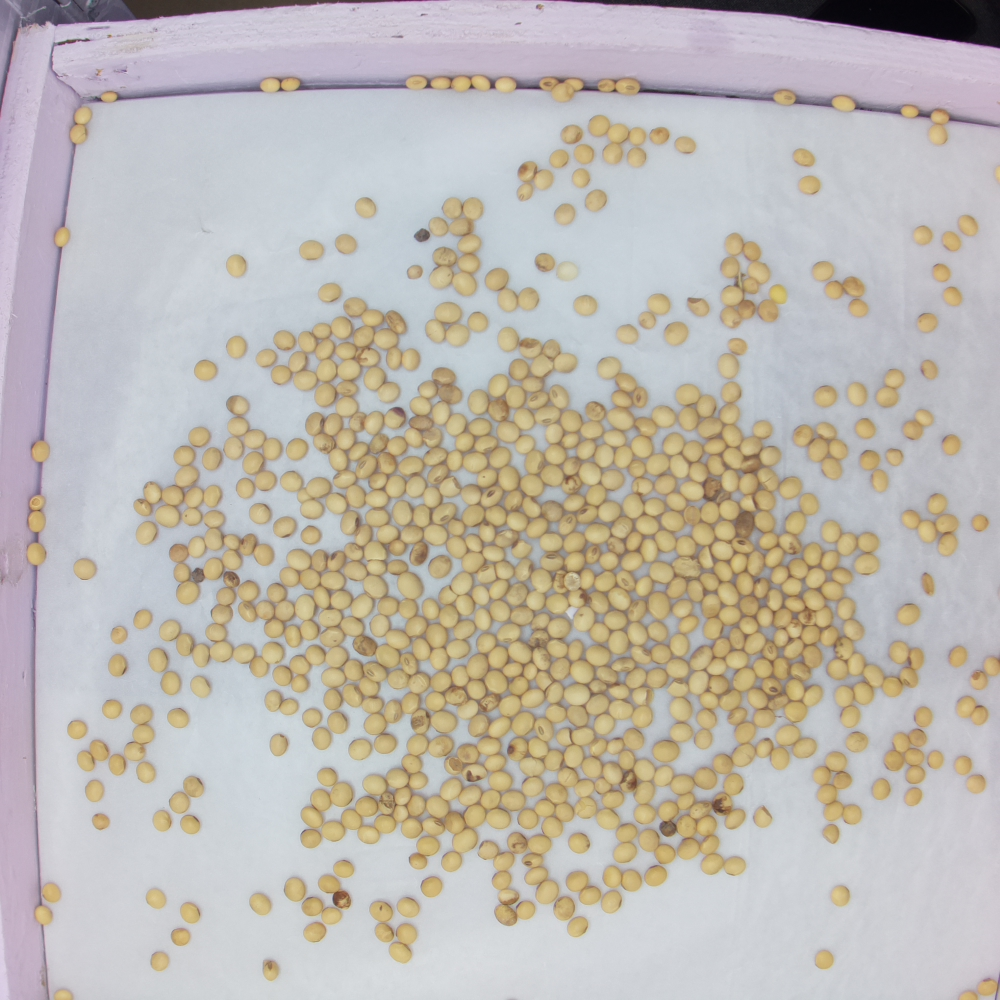soya: (646, 592, 670, 622), (364, 575, 389, 602), (607, 408, 635, 432), (652, 740, 680, 764), (732, 741, 753, 771), (399, 573, 423, 599), (564, 684, 591, 707), (668, 698, 695, 721), (497, 326, 519, 354), (434, 303, 464, 323), (520, 473, 544, 498), (428, 737, 454, 760), (691, 645, 714, 671), (452, 829, 479, 851), (585, 644, 612, 666), (525, 834, 552, 856), (375, 644, 399, 668), (433, 503, 458, 526), (664, 322, 689, 345), (432, 711, 458, 733), (553, 352, 579, 374), (717, 582, 739, 608), (225, 336, 248, 360), (341, 684, 364, 708), (439, 778, 462, 802), (532, 356, 555, 380), (260, 643, 284, 666), (512, 712, 536, 735), (675, 385, 699, 408), (629, 436, 653, 459), (692, 523, 714, 548), (646, 454, 671, 476), (298, 617, 319, 643), (770, 746, 791, 772), (454, 272, 477, 295), (585, 189, 608, 212), (644, 865, 667, 888), (225, 254, 247, 278), (313, 384, 335, 408), (286, 439, 310, 461), (356, 456, 378, 480), (445, 640, 469, 662), (485, 269, 509, 291), (273, 516, 297, 538), (326, 646, 348, 670), (329, 784, 353, 806), (486, 810, 510, 832), (327, 712, 351, 734), (554, 203, 576, 227), (608, 588, 630, 612), (562, 532, 586, 554), (586, 114, 608, 138), (365, 367, 386, 392), (508, 357, 529, 382), (467, 654, 488, 679), (596, 502, 621, 523), (579, 463, 600, 488), (365, 410, 385, 436), (424, 525, 450, 545), (384, 700, 403, 727), (335, 234, 358, 256), (318, 281, 341, 303), (444, 414, 466, 437), (497, 466, 519, 489), (565, 706, 588, 728), (694, 768, 717, 790), (596, 808, 619, 830), (521, 776, 543, 799), (331, 316, 352, 340), (472, 435, 500, 453), (488, 446, 512, 467), (518, 287, 539, 311), (369, 900, 393, 921), (429, 266, 453, 287), (488, 718, 512, 739), (585, 524, 609, 545), (573, 295, 597, 316), (469, 389, 489, 414), (295, 595, 315, 620), (395, 897, 420, 917), (320, 627, 345, 647), (596, 357, 621, 377), (668, 722, 693, 742), (533, 408, 560, 426), (702, 592, 720, 619), (401, 753, 423, 775), (253, 544, 275, 566), (592, 712, 614, 734), (666, 577, 688, 599), (586, 486, 608, 508), (485, 671, 508, 692), (370, 615, 391, 638), (255, 600, 276, 623), (300, 807, 323, 828), (609, 699, 632, 720), (650, 563, 673, 584), (624, 496, 645, 519), (696, 708, 717, 731), (723, 773, 744, 796), (639, 830, 660, 853), (780, 476, 801, 499), (814, 385, 837, 406), (734, 668, 755, 691), (794, 737, 817, 758), (820, 802, 843, 823), (300, 240, 324, 260), (337, 361, 361, 381), (452, 572, 472, 596), (386, 629, 410, 649), (498, 288, 518, 312), (344, 562, 368, 582), (669, 774, 693, 794), (536, 880, 556, 904), (577, 886, 601, 906), (700, 854, 724, 874), (823, 751, 847, 771), (328, 448, 347, 473), (399, 457, 424, 476), (393, 501, 412, 526), (482, 546, 507, 565), (405, 676, 430, 695), (320, 572, 345, 591), (612, 844, 637, 863), (602, 865, 621, 890), (519, 758, 545, 776), (424, 320, 445, 342), (456, 595, 477, 617), (463, 505, 484, 527), (460, 484, 481, 506), (342, 809, 363, 831), (543, 445, 565, 466), (655, 530, 676, 552), (570, 660, 592, 681), (569, 832, 590, 854), (621, 871, 642, 893), (678, 838, 699, 860), (406, 616, 429, 636), (243, 452, 263, 475), (249, 504, 272, 524), (574, 608, 594, 631), (530, 648, 550, 671), (779, 534, 799, 557), (754, 512, 777, 532), (401, 348, 420, 372), (333, 472, 357, 491), (363, 775, 387, 794), (489, 771, 513, 790), (608, 630, 627, 654), (647, 294, 671, 313), (665, 432, 684, 456), (720, 690, 744, 709), (690, 671, 709, 695), (583, 756, 602, 780), (822, 521, 841, 545), (496, 625, 521, 643), (366, 509, 391, 527), (318, 610, 343, 628), (552, 656, 570, 681), (810, 438, 828, 463), (414, 838, 442, 854), (300, 500, 321, 521), (487, 647, 508, 668), (238, 580, 259, 601), (365, 714, 386, 735), (561, 410, 582, 431), (652, 766, 673, 787), (712, 754, 733, 775), (805, 570, 826, 591), (884, 369, 905, 390), (273, 330, 295, 350), (280, 472, 302, 492), (355, 198, 377, 218), (488, 374, 508, 396), (322, 669, 344, 689), (421, 877, 443, 897), (426, 797, 448, 817), (330, 590, 352, 610), (401, 693, 421, 715), (616, 325, 638, 345), (603, 144, 623, 166), (726, 706, 748, 726), (634, 782, 654, 804), (565, 871, 587, 891), (696, 816, 716, 838), (740, 437, 762, 457), (317, 359, 336, 382), (287, 550, 310, 569), (366, 490, 389, 509), (464, 197, 483, 220), (238, 601, 257, 624), (312, 727, 331, 750), (627, 622, 646, 645), (671, 634, 690, 657), (671, 454, 690, 477), (681, 481, 704, 500), (666, 660, 689, 679), (635, 759, 654, 782), (601, 790, 624, 809), (524, 867, 547, 886), (656, 844, 675, 867), (793, 424, 812, 447), (848, 383, 867, 406), (376, 384, 400, 402), (354, 524, 372, 548), (520, 690, 544, 708), (580, 422, 604, 440), (679, 406, 697, 430), (633, 806, 657, 824), (544, 783, 568, 801), (804, 543, 822, 567), (469, 419, 494, 436), (538, 532, 563, 549), (308, 478, 329, 498), (491, 602, 511, 623), (300, 524, 321, 544), (461, 786, 482, 806), (410, 640, 430, 661), (374, 816, 395, 836), (407, 735, 427, 756), (425, 692, 445, 713), (573, 144, 594, 164), (712, 540, 732, 561), (704, 619, 724, 640), (712, 637, 732, 658), (822, 458, 842, 479), (786, 513, 806, 534), (878, 387, 898, 408), (409, 397, 431, 416), (421, 598, 440, 620), (342, 542, 364, 561), (541, 467, 563, 486), (615, 824, 637, 843), (553, 803, 575, 822), (573, 780, 595, 799), (347, 485, 365, 508), (433, 401, 451, 424), (457, 235, 480, 253), (440, 605, 458, 628), (240, 533, 258, 556), (534, 719, 552, 742), (526, 519, 549, 537), (521, 495, 539, 518), (719, 606, 742, 624), (721, 404, 739, 427), (324, 413, 341, 437), (342, 512, 359, 536), (341, 618, 365, 635), (596, 444, 613, 468), (614, 445, 631, 469), (679, 816, 696, 840), (838, 597, 855, 621), (304, 645, 324, 665), (322, 690, 342, 710), (468, 312, 488, 332), (272, 665, 292, 685), (345, 297, 364, 318), (476, 633, 497, 652), (334, 860, 355, 879), (500, 696, 521, 715), (564, 552, 585, 571), (678, 616, 699, 635), (770, 563, 789, 584), (723, 426, 742, 447), (762, 445, 781, 466), (374, 329, 396, 347), (413, 505, 431, 527), (302, 708, 324, 726), (674, 136, 696, 154), (564, 746, 582, 768), (844, 803, 862, 825), (377, 598, 400, 615), (586, 695, 609, 712), (603, 612, 626, 629), (541, 552, 564, 569), (605, 124, 628, 141), (789, 558, 806, 581), (264, 437, 280, 461), (316, 340, 336, 359), (353, 327, 373, 346), (227, 417, 247, 436), (455, 432, 474, 452), (494, 561, 514, 580), (389, 436, 408, 456), (401, 820, 421, 839), (263, 619, 282, 639), (480, 789, 500, 808), (720, 500, 739, 520), (830, 439, 849, 459), (861, 450, 880, 470), (773, 608, 792, 628), (817, 785, 836, 805), (589, 624, 610, 642), (695, 729, 713, 750), (618, 571, 636, 592), (801, 494, 819, 515), (767, 590, 785, 611), (777, 727, 798, 745), (299, 332, 316, 354), (431, 648, 448, 670), (400, 653, 417, 675), (536, 170, 553, 192), (603, 430, 626, 446), (518, 855, 546, 868), (290, 675, 309, 694), (648, 622, 667, 641), (628, 127, 647, 146), (856, 418, 875, 437), (748, 690, 767, 709), (288, 353, 308, 371), (417, 381, 437, 399), (256, 471, 276, 489), (290, 656, 310, 674), (504, 792, 524, 810), (548, 640, 568, 658), (758, 532, 778, 550), (294, 371, 315, 388), (478, 565, 499, 582), (551, 386, 568, 407), (357, 827, 378, 844), (407, 476, 424, 497), (604, 763, 621, 784), (816, 423, 837, 440), (839, 533, 855, 555), (732, 538, 754, 554), (642, 539, 656, 564), (872, 469, 887, 492), (327, 494, 345, 513), (337, 430, 356, 448), (701, 835, 719, 854), (715, 522, 734, 540), (256, 350, 276, 367), (327, 551, 344, 571), (423, 487, 440, 507), (636, 577, 653, 597), (833, 772, 853, 789), (363, 310, 384, 326), (336, 400, 357, 416), (815, 767, 831, 788), (515, 436, 533, 454), (272, 366, 289, 385), (674, 601, 693, 618), (530, 738, 547, 757), (753, 421, 772, 438), (337, 343, 357, 359), (385, 348, 401, 368), (576, 507, 596, 523), (822, 584, 842, 600), (286, 626, 300, 648), (550, 150, 568, 167), (408, 855, 427, 871), (617, 752, 633, 771), (312, 324, 332, 339), (350, 444, 368, 460), (767, 549, 783, 567), (529, 393, 548, 408), (487, 755, 506, 770), (763, 640, 777, 660), (588, 544, 600, 567), (700, 692, 716, 707)
